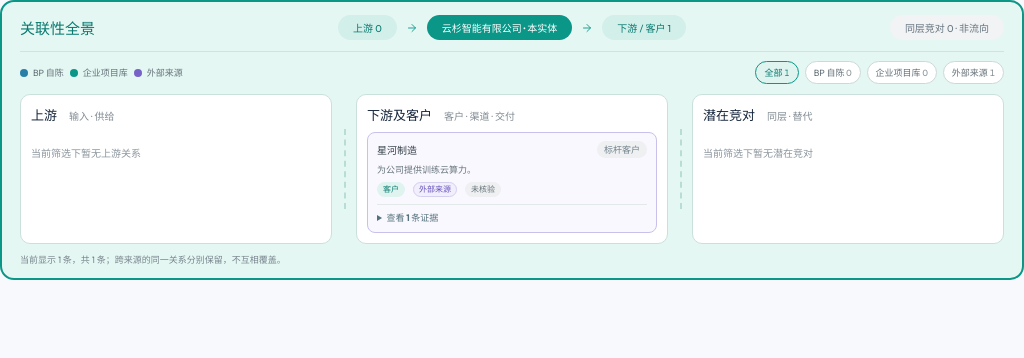
Test: 公司关联性全景 › 展开全部证据并显示可访问的完整外部 URL
Click the heading "查看 1 条证据": (412, 218) [386,212,438,223]
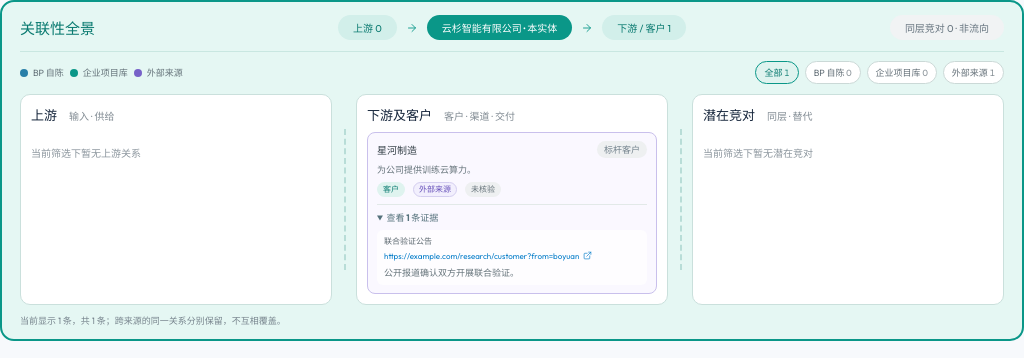
Now the text "公开报道确认双方开展联合验证。" is shown, box [384,267,519,278]
